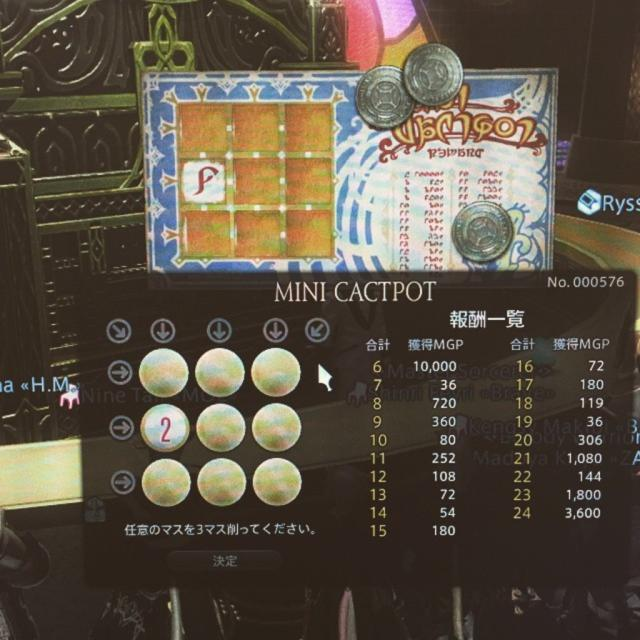Coin: (357, 62, 418, 127), (459, 196, 518, 263), (406, 41, 464, 105)
